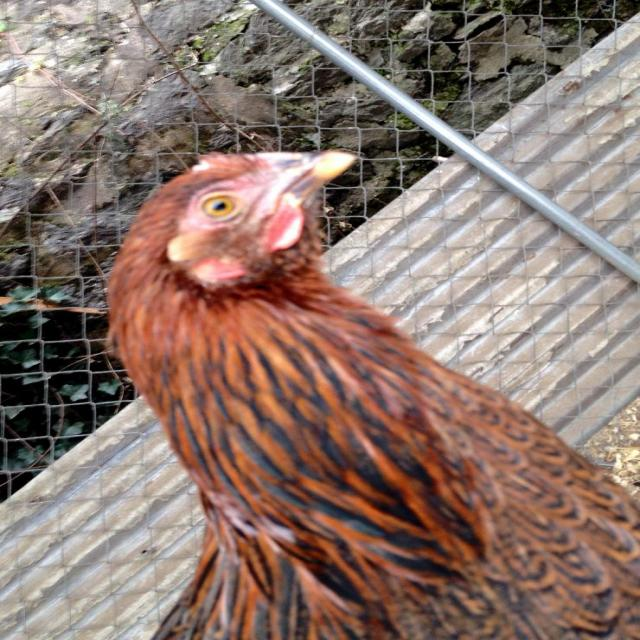Chicken: (88, 149, 640, 622)
